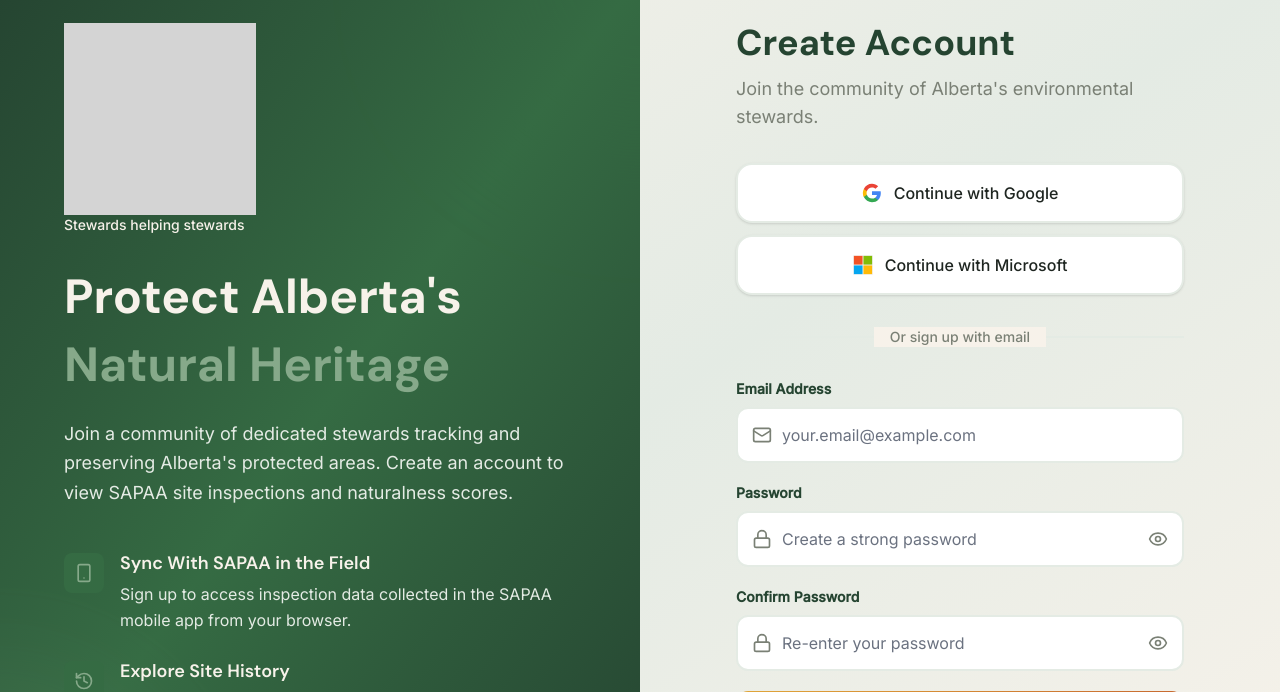
SignupPage › handles Google sign-in error
This screenshot has width=1280, height=692.
Step 1. Click the button "Continue with Google" → (960, 193), box [736,163,1184,223]
(page scrolled)
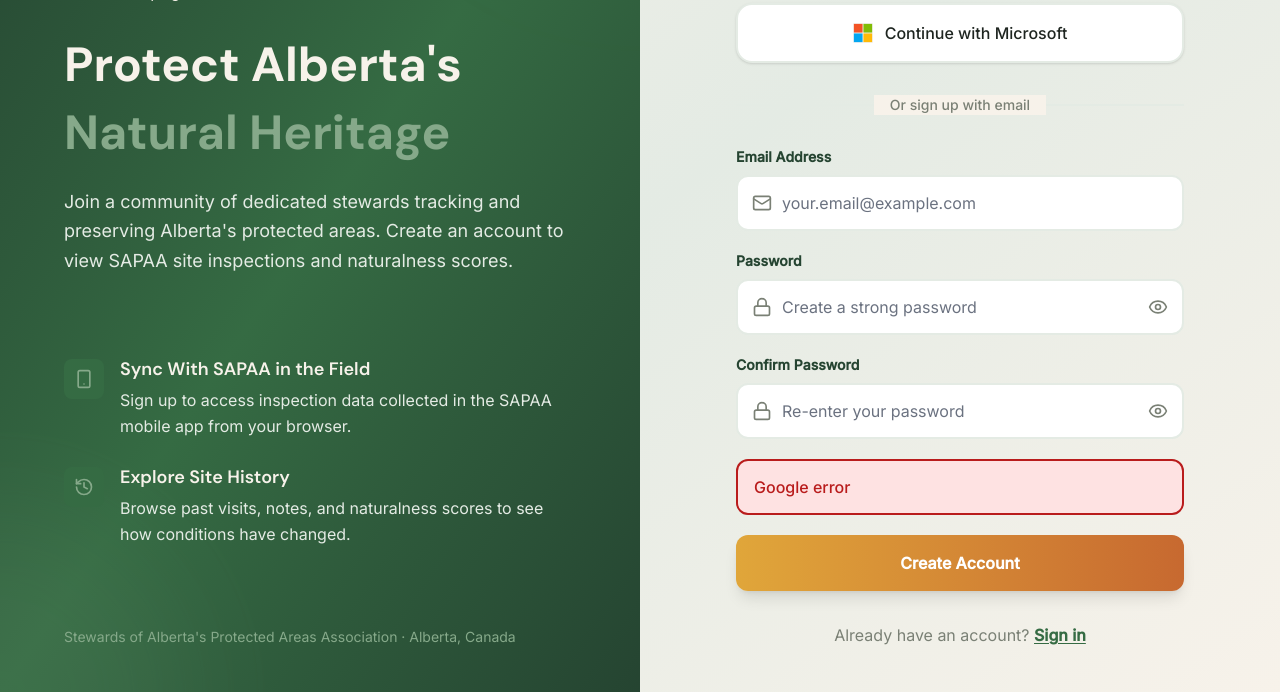
Expected: the text "Google error" is shown, [736,459,1184,515]
